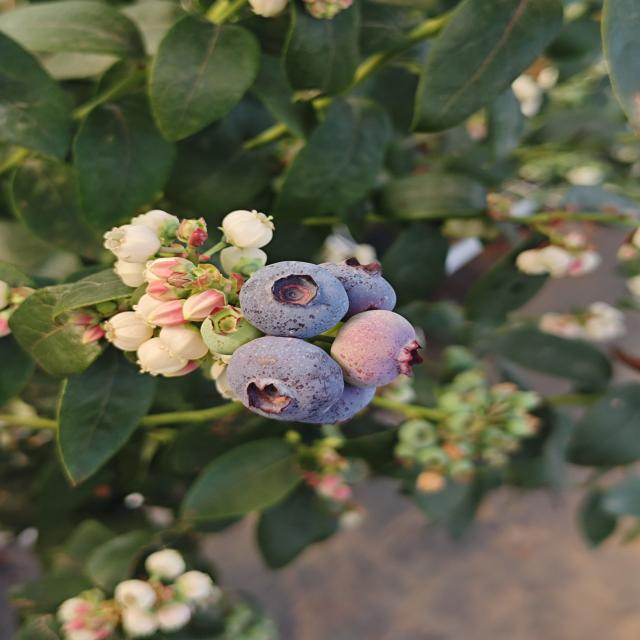ripe: (214, 334, 352, 424), (229, 261, 349, 338), (290, 362, 382, 427), (320, 256, 400, 313)
